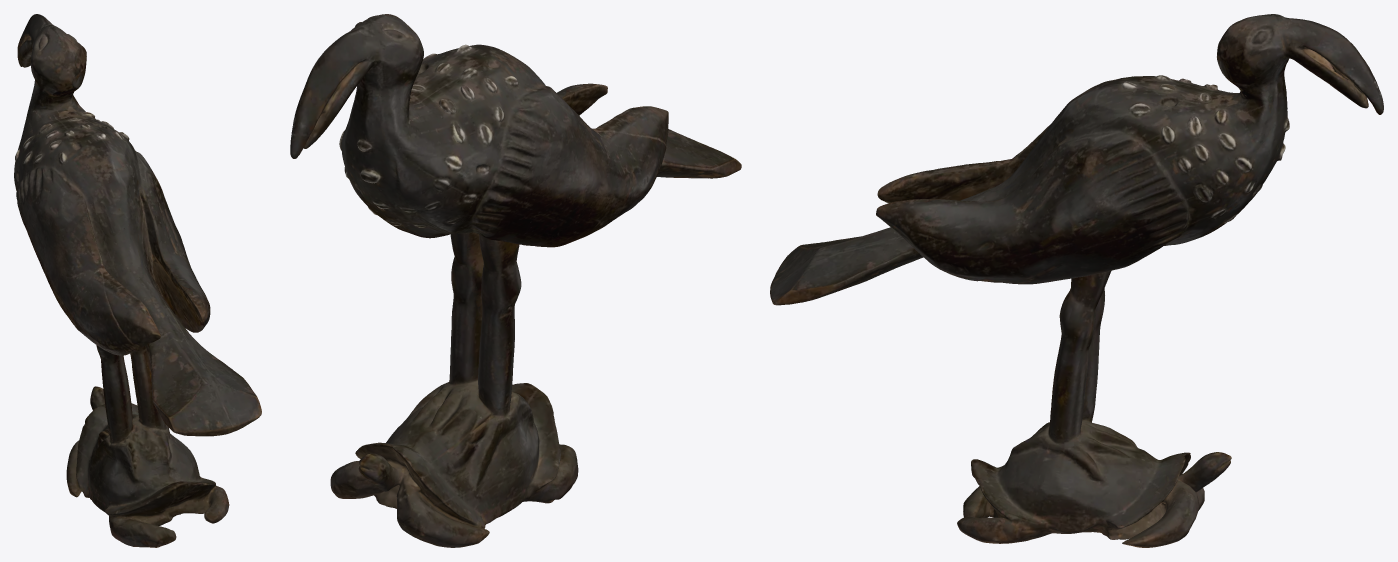
The model's file is preview.glb.
The picture shows the model from 3 angles, left to right: view 1: azimuth 30°, elevation 25°; view 2: azimuth 150°, elevation 25°; view 3: azimuth 270°, elevation 25°; orthographic projection. The views are drawn at different scales.
Parts seen in each view (by area): view 1: Object_2; view 2: Object_2; view 3: Object_2.
Boxes of the visible parts, x1=… form: Object_2: x1=14, y1=14, x2=261, y2=547; Object_2: x1=290, y1=14, x2=741, y2=547; Object_2: x1=770, y1=14, x2=1383, y2=547.
Size of the model in its own units: 230 by 580 by 621.
Materials: 1 (1 with a texture image).
